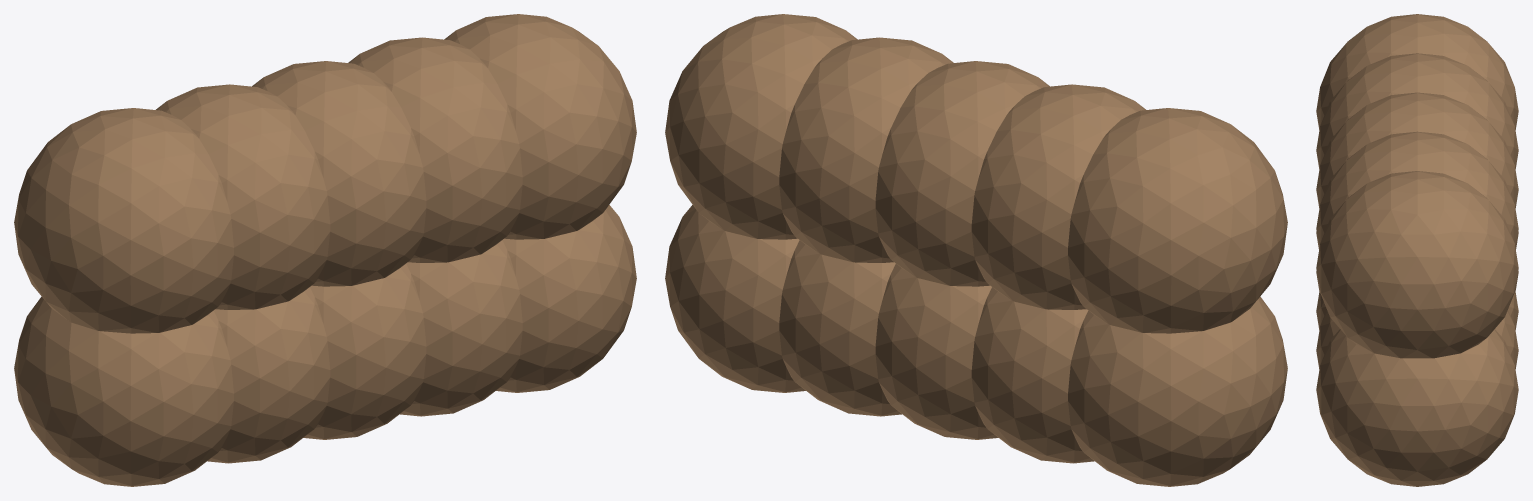
The model's file is pelo-rizos.glb.
The picture shows the model from 3 angles, left to right: view 1: azimuth 30°, elevation 25°; view 2: azimuth 150°, elevation 25°; view 3: azimuth 270°, elevation 25°; orthographic projection. The views are drawn at different scales.
Parts seen in each view (by area): view 1: pelo-rizos_01, pelo-rizos_00, pelo-rizos_09, pelo-rizos_05, pelo-rizos_07, pelo-rizos_03, pelo-rizos_08, pelo-rizos_06, pelo-rizos_02, pelo-rizos_04; view 2: pelo-rizos_01, pelo-rizos_00, pelo-rizos_09, pelo-rizos_05, pelo-rizos_07, pelo-rizos_03, pelo-rizos_08, pelo-rizos_06, pelo-rizos_02, pelo-rizos_04; view 3: pelo-rizos_09, pelo-rizos_08, pelo-rizos_07, pelo-rizos_03, pelo-rizos_01, pelo-rizos_05, pelo-rizos_06, pelo-rizos_04.
Boxes of the visible parts, x1,y1,x2,y2 form: pelo-rizos_01: [14, 108, 233, 333]; pelo-rizos_00: [14, 296, 233, 486]; pelo-rizos_09: [444, 14, 636, 239]; pelo-rizos_05: [252, 61, 426, 286]; pelo-rizos_07: [348, 37, 522, 262]; pelo-rizos_03: [156, 84, 330, 309]; pelo-rizos_08: [496, 205, 636, 392]; pelo-rizos_06: [400, 240, 522, 416]; pelo-rizos_02: [207, 287, 330, 463]; pelo-rizos_04: [303, 264, 426, 439]; pelo-rizos_01: [1068, 108, 1287, 333]; pelo-rizos_00: [1068, 296, 1287, 486]; pelo-rizos_09: [665, 14, 857, 239]; pelo-rizos_05: [875, 61, 1049, 286]; pelo-rizos_07: [779, 37, 953, 262]; pelo-rizos_03: [971, 84, 1145, 309]; pelo-rizos_08: [665, 205, 805, 392]; pelo-rizos_06: [779, 240, 901, 416]; pelo-rizos_02: [971, 287, 1094, 463]; pelo-rizos_04: [875, 264, 998, 439]; pelo-rizos_09: [1316, 171, 1518, 358]; pelo-rizos_08: [1316, 329, 1518, 486]; pelo-rizos_07: [1316, 131, 1518, 247]; pelo-rizos_03: [1316, 53, 1518, 168]; pelo-rizos_01: [1316, 14, 1518, 129]; pelo-rizos_05: [1316, 92, 1518, 207]; pelo-rizos_06: [1316, 310, 1518, 368]; pelo-rizos_04: [1316, 291, 1518, 329].
Bounding box in the file's own units: 0.745 × 0.4322 × 0.2654.
